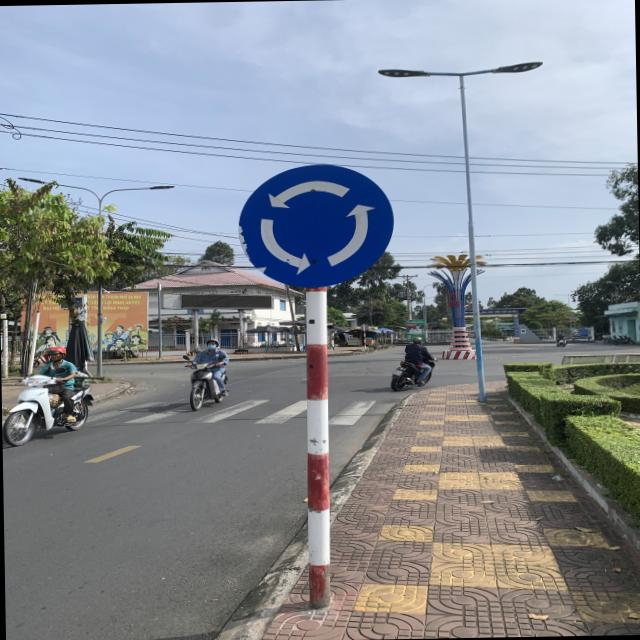Xe_Bus: (240, 162, 394, 290)
